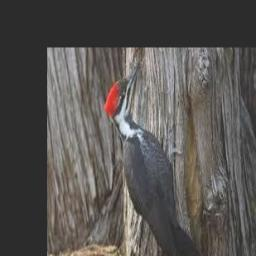Woodpecker: (103, 59, 206, 256)
